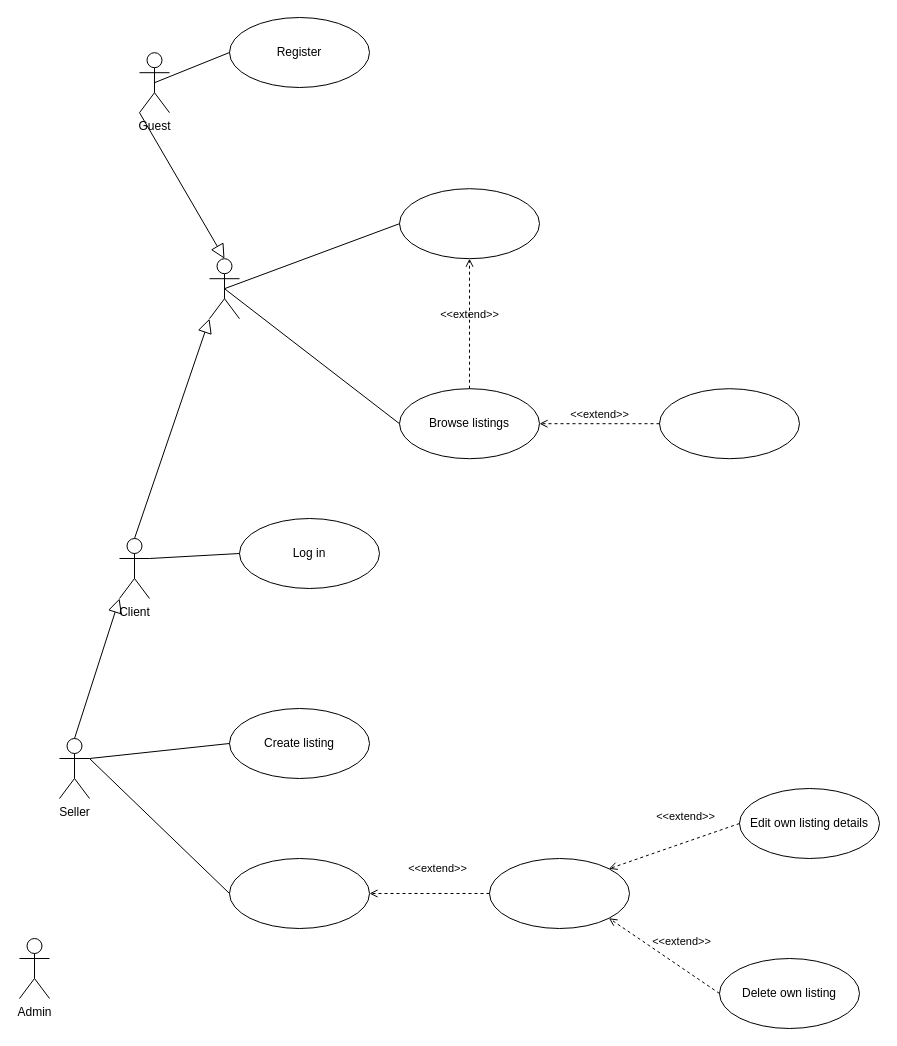
Some shapes in this 897 by 1046 pixel diagram are drawn without their labels. The box of each missing label's shape, as (x1, y1, x2, y2) in pixels:
Search listings: (398, 188, 540, 259)
User: (208, 258, 240, 319)
View listing details: (658, 388, 800, 459)
View own listing details: (488, 858, 630, 928)
View own listings: (228, 858, 370, 928)
